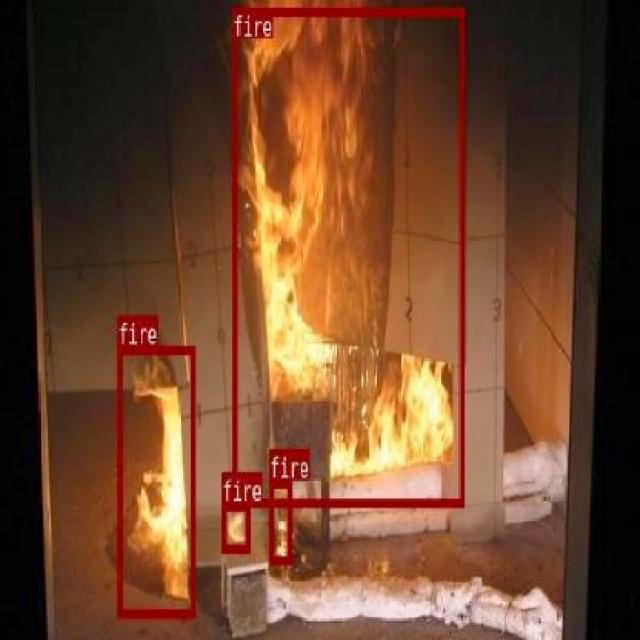fire: (231, 6, 463, 505), (116, 344, 195, 618), (268, 478, 290, 564), (222, 500, 250, 552)
